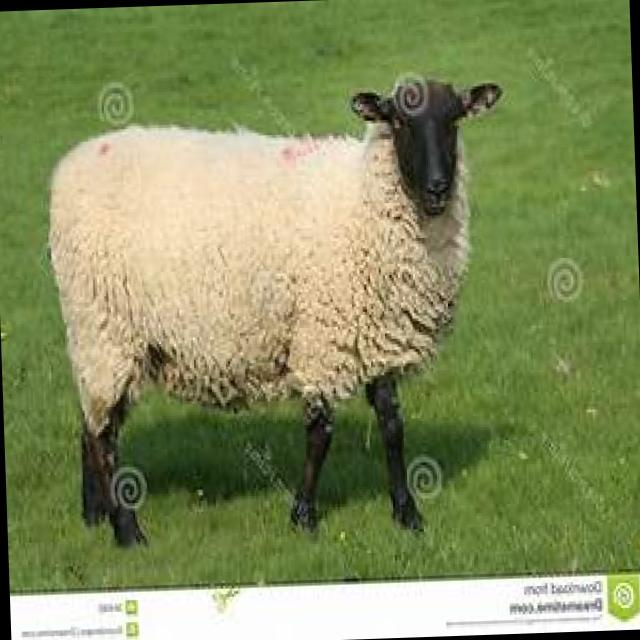sheep: (42, 76, 516, 546)
